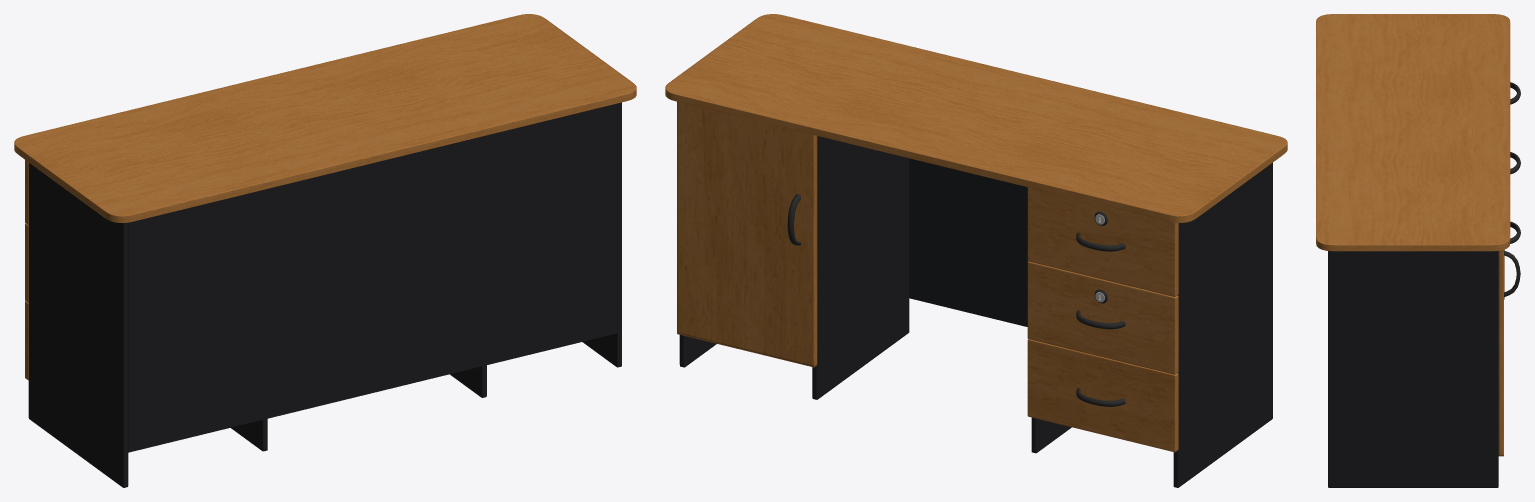
Rendered from TableShelf-transformed.glb.
3 views of the same model, side by side, from view 1: azimuth 30°, elevation 25°; view 2: azimuth 150°, elevation 25°; view 3: azimuth 270°, elevation 25° (orthographic). The views are drawn at different scales.
Parts seen in each view (by area): view 1: connect, table, Drawer; view 2: Drawer, connect, table; view 3: table, connect, Drawer.
Boxes of the visible parts, box(x1,y1,x2,y2) form: connect: box(28, 102, 621, 487); table: box(14, 14, 636, 215); Drawer: box(14, 14, 636, 380); Drawer: box(665, 14, 1287, 452); connect: box(679, 136, 1272, 487); table: box(666, 14, 1286, 215); table: box(1316, 14, 1509, 244); connect: box(1328, 251, 1498, 487); Drawer: box(1316, 14, 1520, 456).
Bounding box in the file's own units: 1.81 × 0.9124 × 0.6792.
6 materials, 3 textured.
